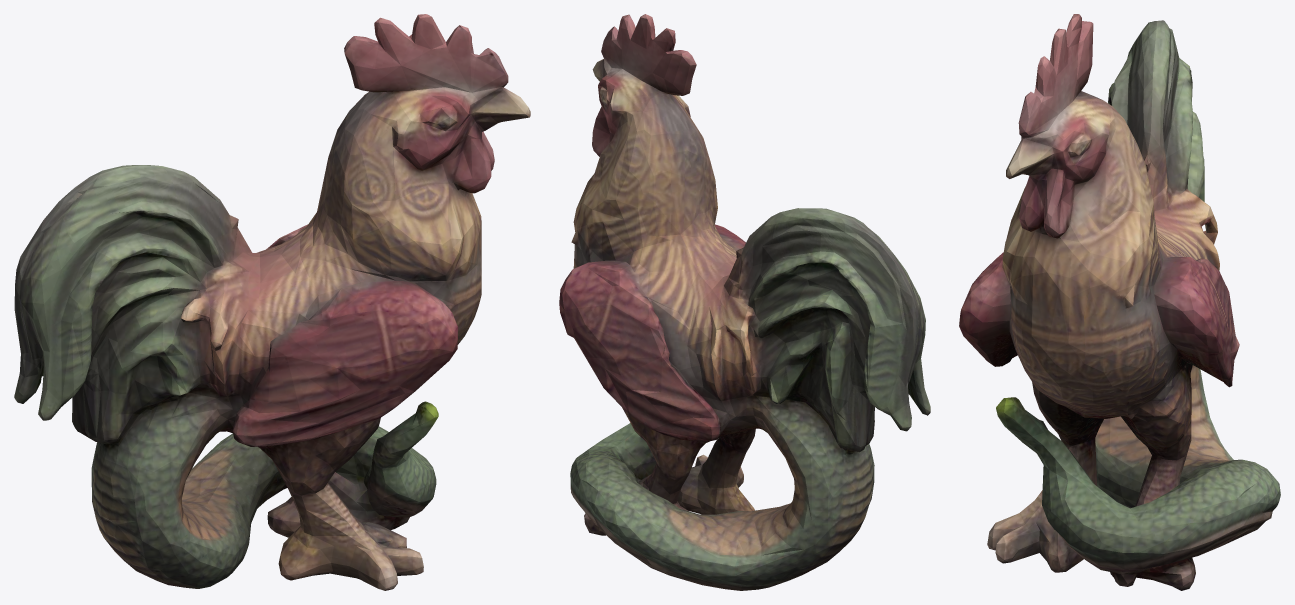
File: stillgaze.glb
The picture shows the model from 3 angles, left to right: view 1: azimuth 30°, elevation 25°; view 2: azimuth 150°, elevation 25°; view 3: azimuth 270°, elevation 25°; orthographic projection. The views are drawn at different scales.
Parts seen in each view (by area): view 1: world; view 2: world; view 3: world.
Part boxes in pixels (x1,y1,x2,y2): world: (14,14,530,590); world: (559,14,930,590); world: (959,14,1280,590).
Size of the model in its own units: 0.6501 by 0.7808 by 0.397.
1 material, 1 textured.
